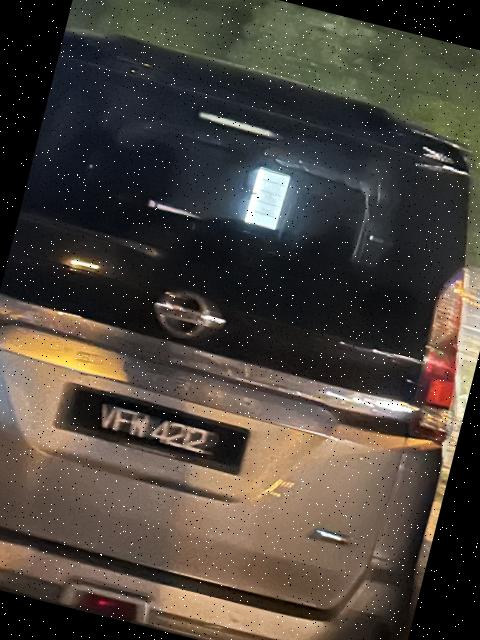License_Plate: (52, 382, 263, 485)
car: (1, 17, 480, 640)
